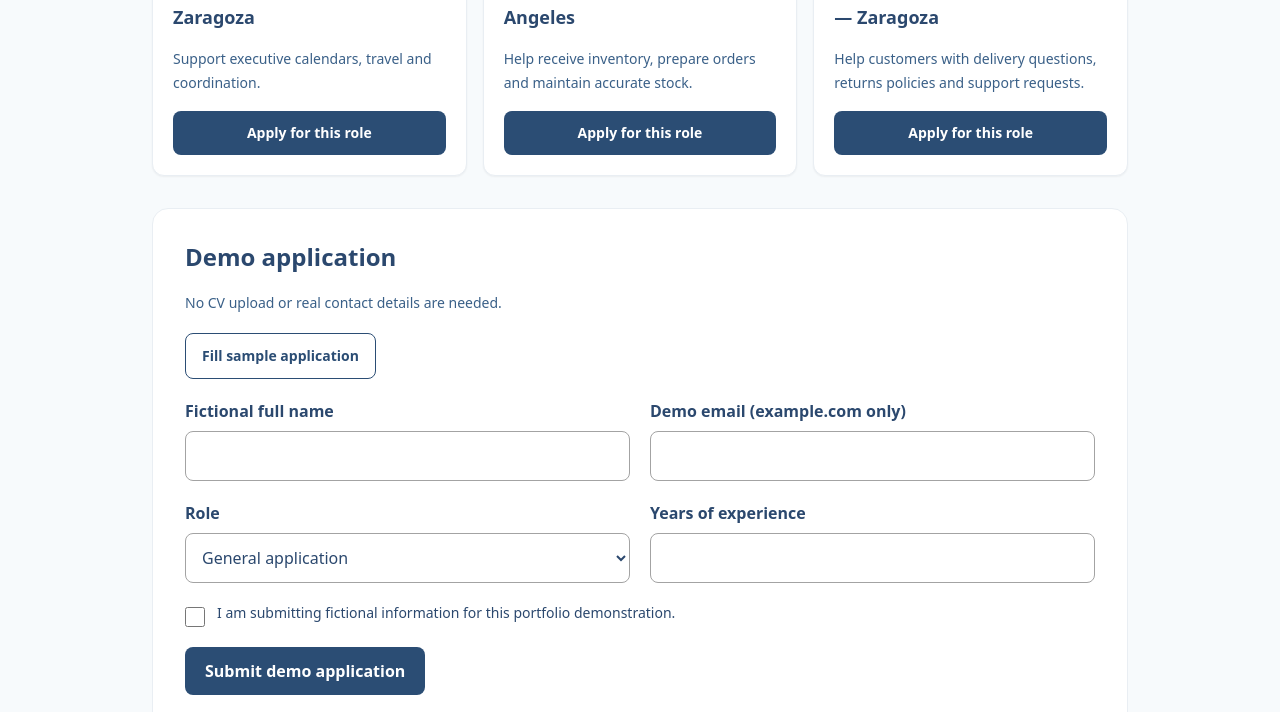
Test case: careers demonstration › rejects real email addresses before sending
The width and height of the screenshot is (1280, 712).
(page scrolled)
Click the button "Fill sample application": (280, 356) [185,333,376,379]
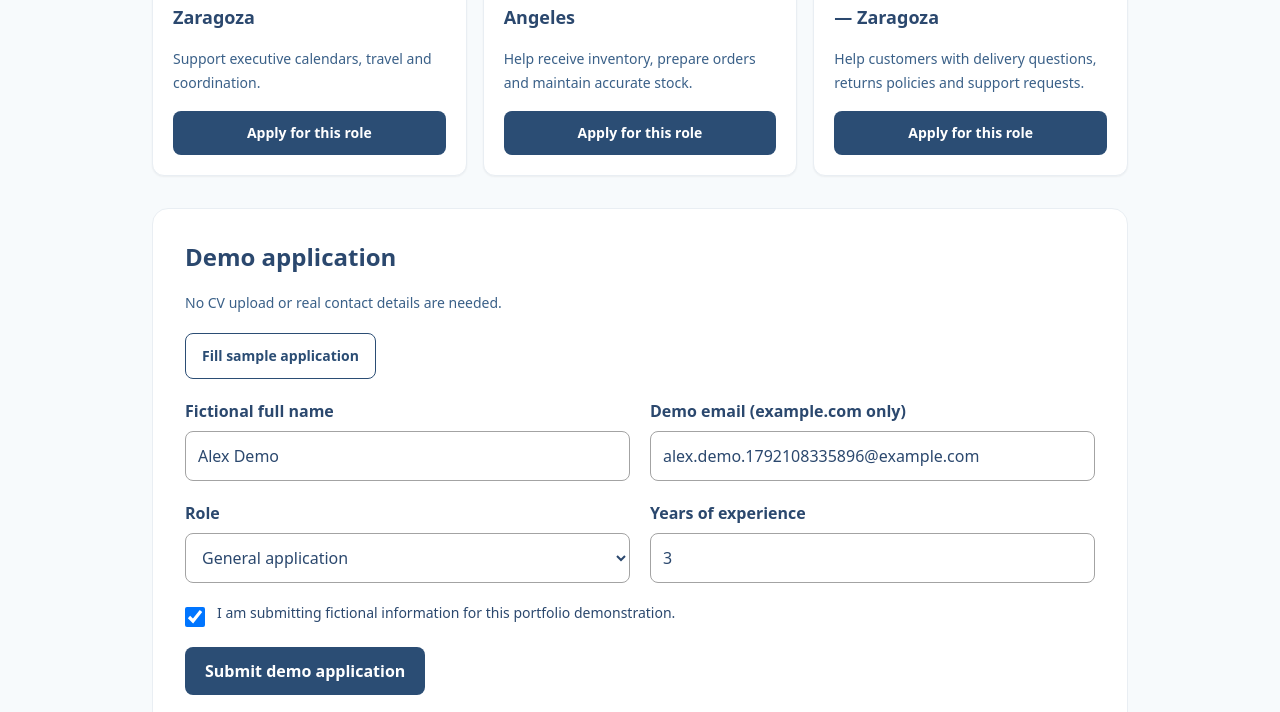
Replace the text in the field labelled "Demo email (example.com only)" with "actual@company.com": (872, 456) [650,431,1095,481]
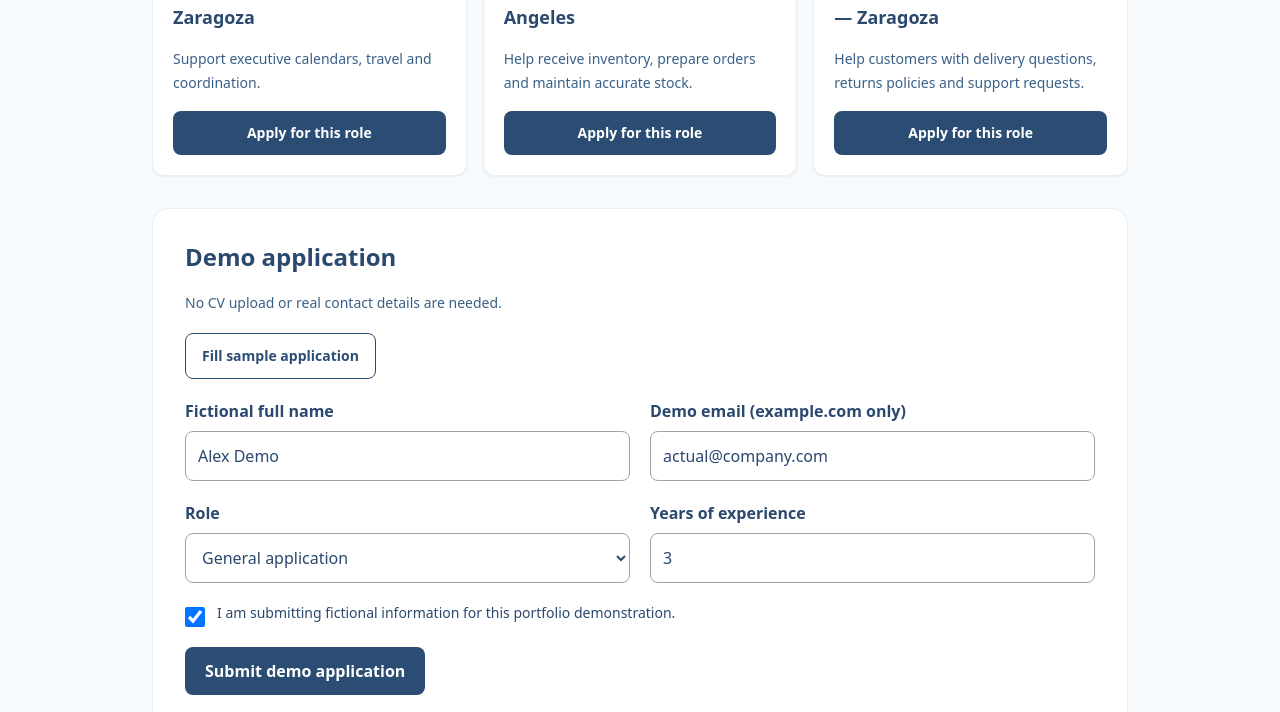
Click the button "Submit demo application": (305, 671) [185,647,425,695]
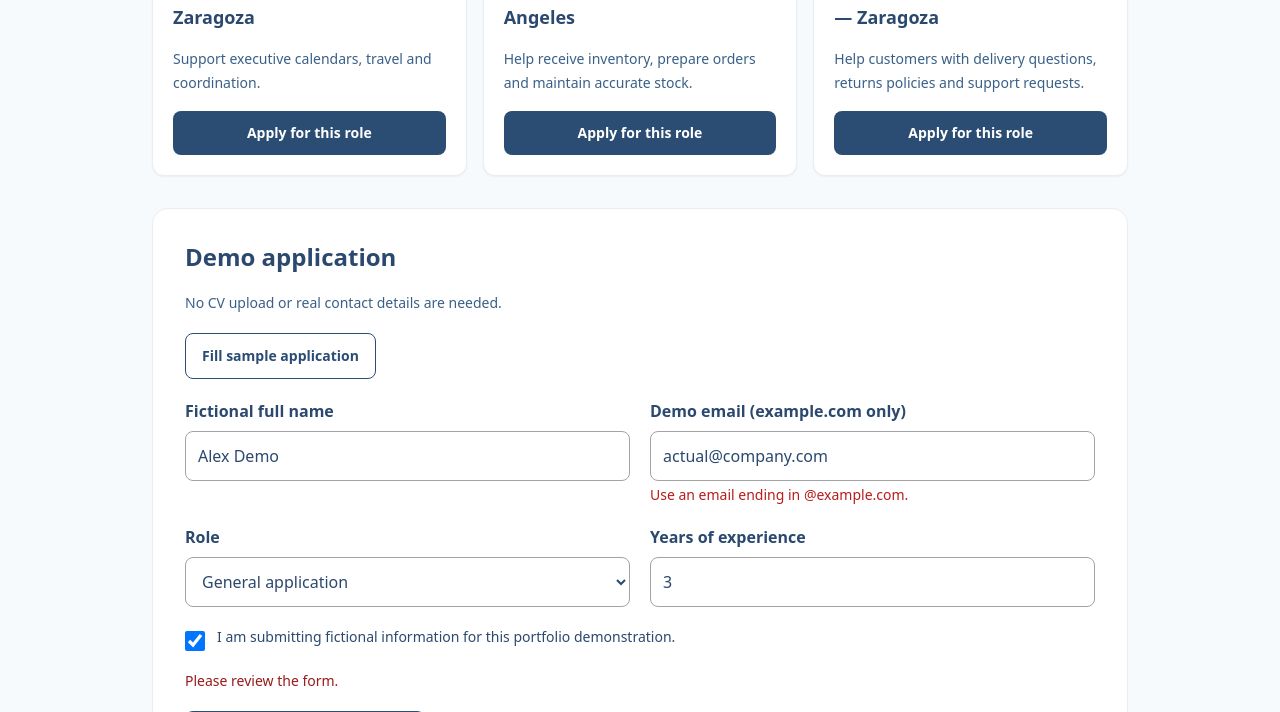
Result: the text "Use an email ending in @example.com." is shown at [650,485,908,504]
